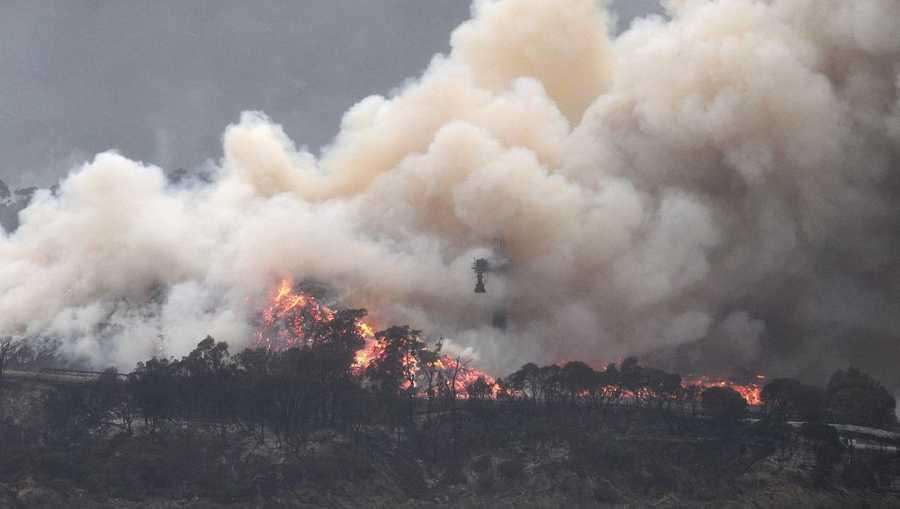fire: (438, 361, 496, 394), (270, 293, 315, 331), (354, 325, 385, 368)
smoke: (265, 165, 764, 235), (21, 208, 230, 326)
